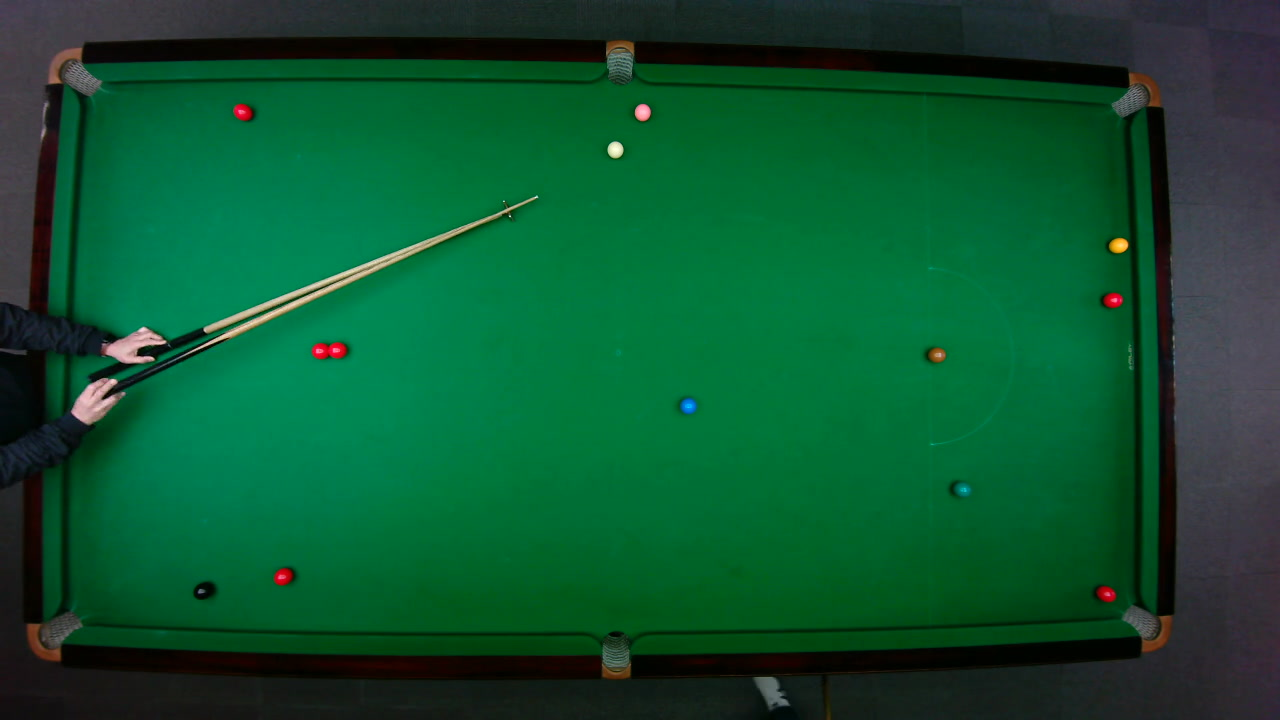bag: (25, 609, 83, 662), (45, 46, 102, 96), (1119, 603, 1172, 652), (1108, 71, 1161, 117), (601, 629, 630, 680), (605, 39, 633, 85)
black: (192, 581, 213, 600)
blue: (678, 396, 697, 414)
brown: (926, 346, 946, 362)
cue: (96, 189, 541, 394)
green: (951, 480, 972, 497)
pink: (632, 102, 651, 121)
red: (271, 566, 294, 585), (325, 340, 347, 359), (1093, 584, 1116, 602), (232, 102, 253, 121), (310, 341, 331, 359), (1101, 291, 1123, 308)
white: (605, 140, 625, 158)
yellow: (1107, 236, 1129, 253)
zone: (926, 266, 1014, 445)
